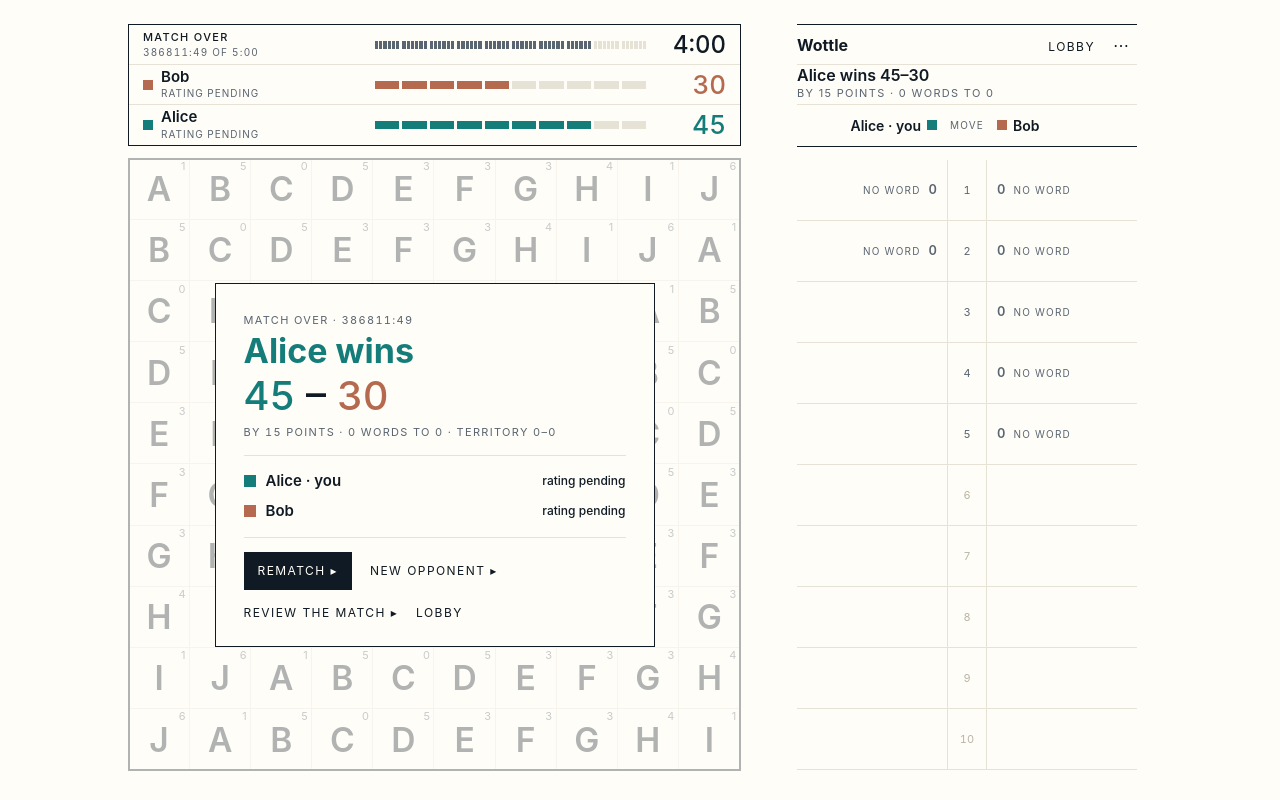
MatchRoomController (spec 050) › final: rematch ▸ sends the request, and the row counts it down
Click the button with test id "slip-rematch": (298, 570) [244,552,352,590]
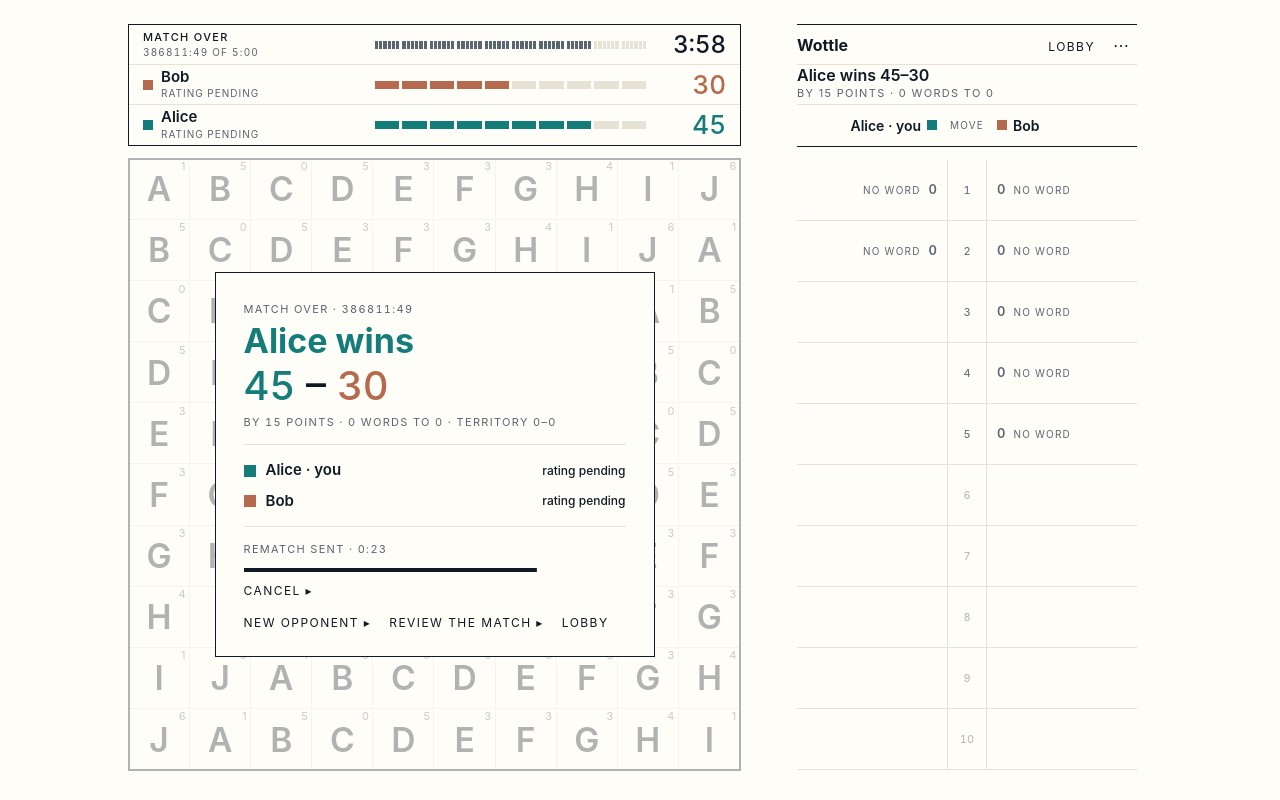
Expected: the text with test id "slip-rematch-line" reads "rematch sent · 0:23", [244,542,387,556]
